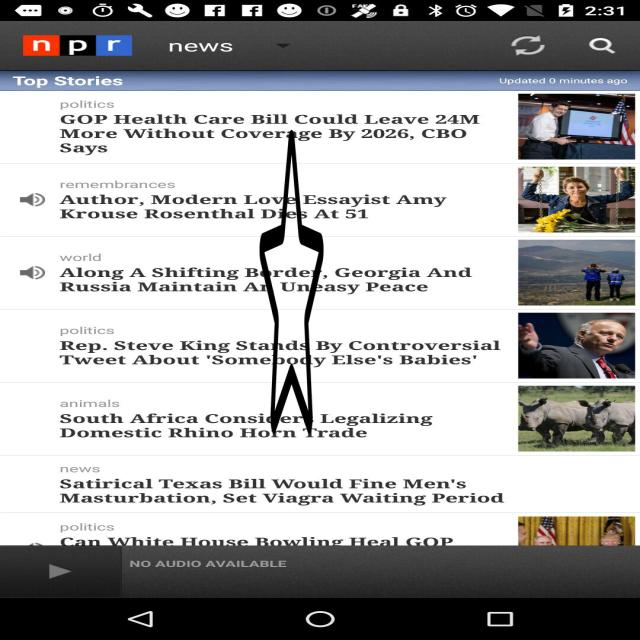forced continuity: (260, 123, 324, 440)
